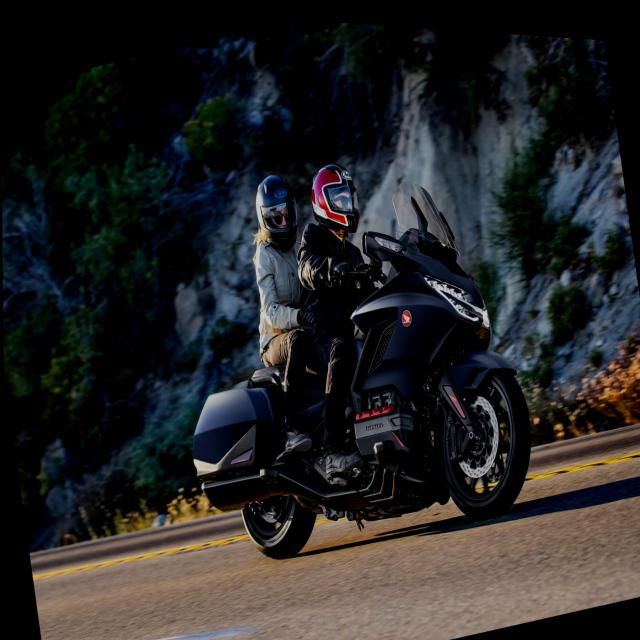Gold Wing: (162, 139, 544, 597)
